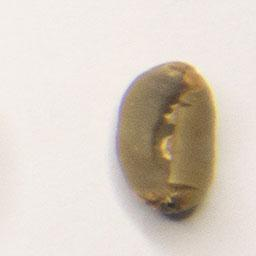premium: (111, 58, 221, 217)
